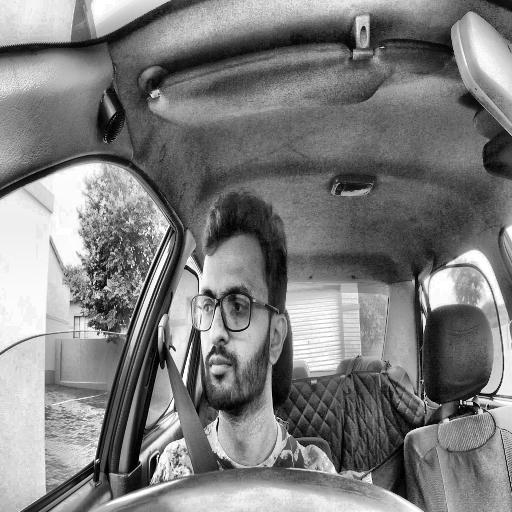awake: (190, 190, 287, 411)
